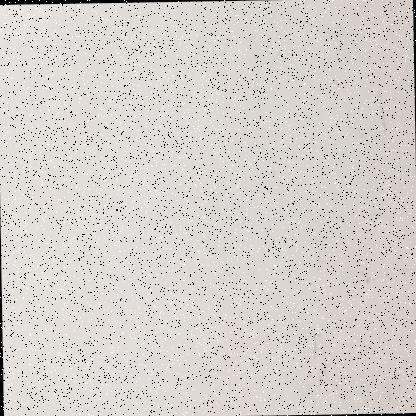Nocrack: (20, 13, 411, 393)
